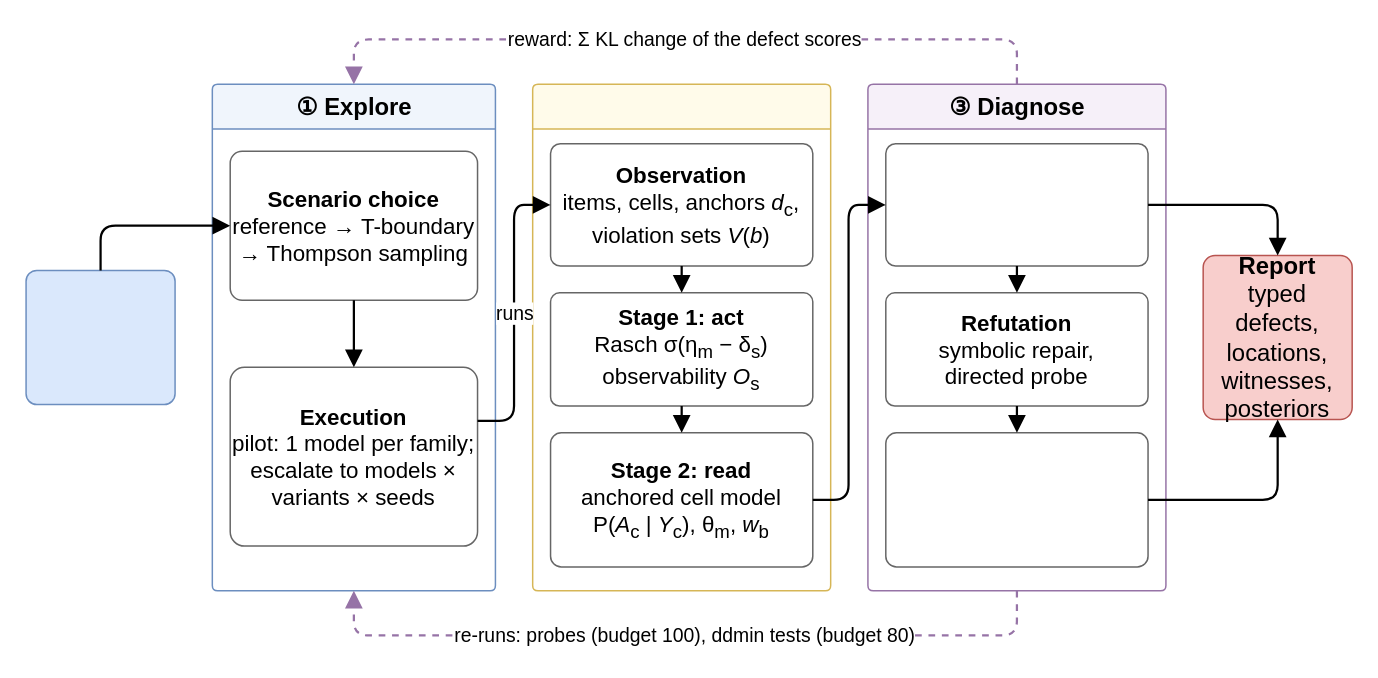
The diagram is 1378 pixels wide and 678 high, and some of its shapes have lost their labels. Each missing label, with the box of its shape:
Localisation ddmin over sentences of 𝒯: (884, 431, 1148, 567)
Specification 𝒮 = ⟨𝒯, 𝒞, Π⟩: (25, 269, 175, 405)
Typing thresholds τ H , τ A , τ W soft hitting sets: (884, 142, 1148, 266)
② Infer: (531, 83, 831, 591)
